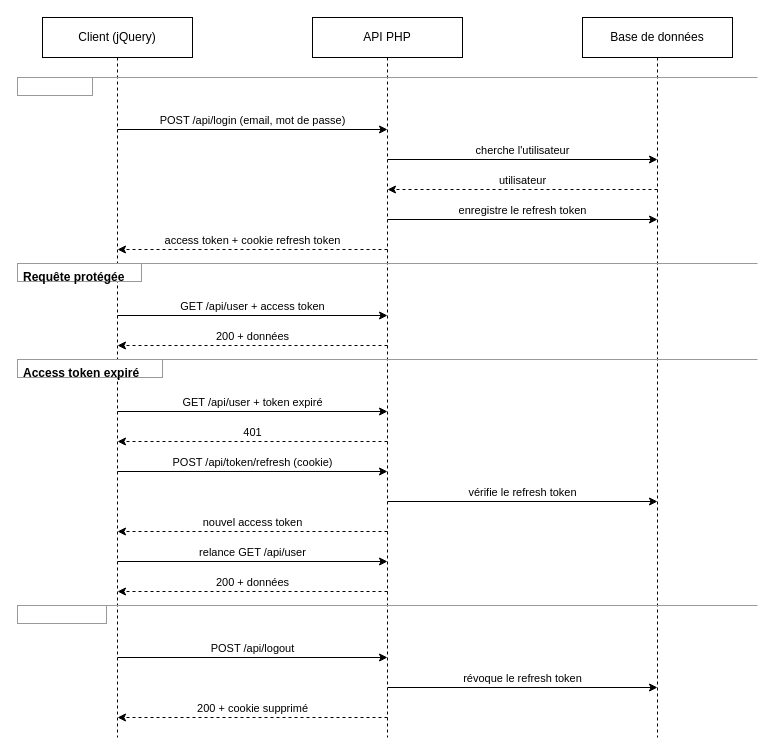
This 776x756 diagram has some shape labels left out. Each missing label, with the centre of its shape:
Connexion: the point at 54,86
Déconnexion: the point at 61,614
